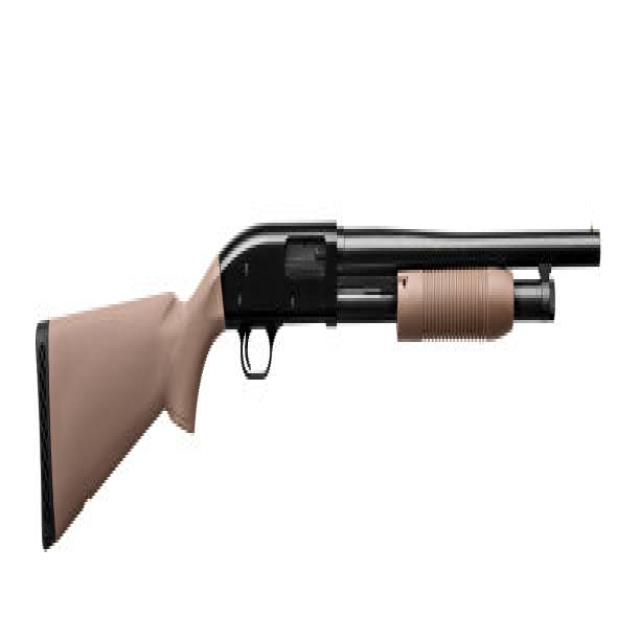rifle: (34, 208, 605, 560)
